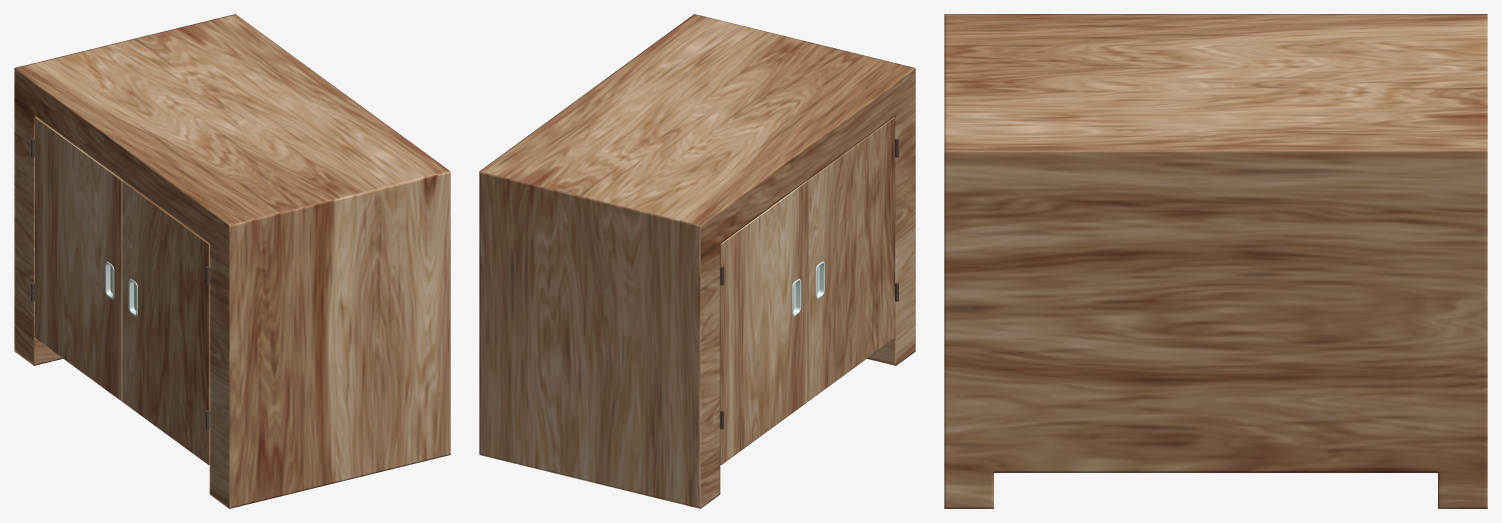
File: cubboard_01.obj
3 views of the same model, side by side, from view 1: azimuth 30°, elevation 25°; view 2: azimuth 150°, elevation 25°; view 3: azimuth 270°, elevation 25° (orthographic). The views are drawn at different scales.
Parts seen in each view (by area): view 1: Cubboard_01; view 2: Cubboard_01; view 3: Cubboard_01.
Part boxes in pixels (x1=…): Cubboard_01: x1=14, y1=14, x2=450, y2=508; Cubboard_01: x1=479, y1=14, x2=915, y2=508; Cubboard_01: x1=944, y1=14, x2=1487, y2=508.
Size of the model in its own units: 1.89 by 2.28 by 3.14.
